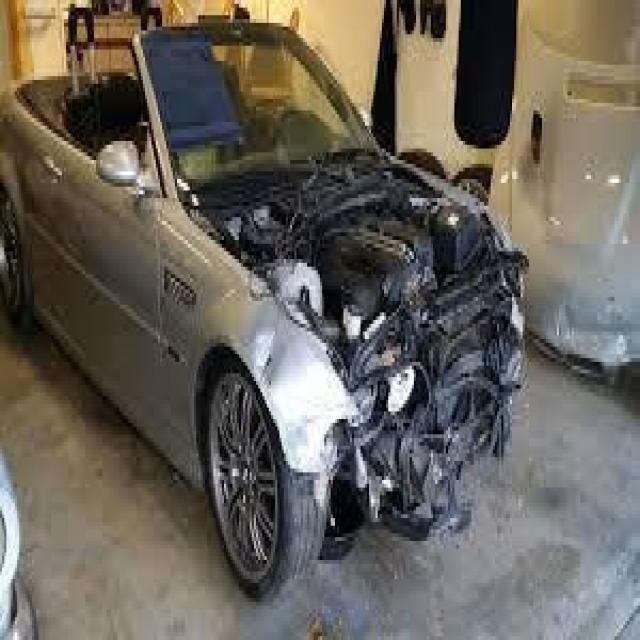damaged: (186, 148, 532, 568)
